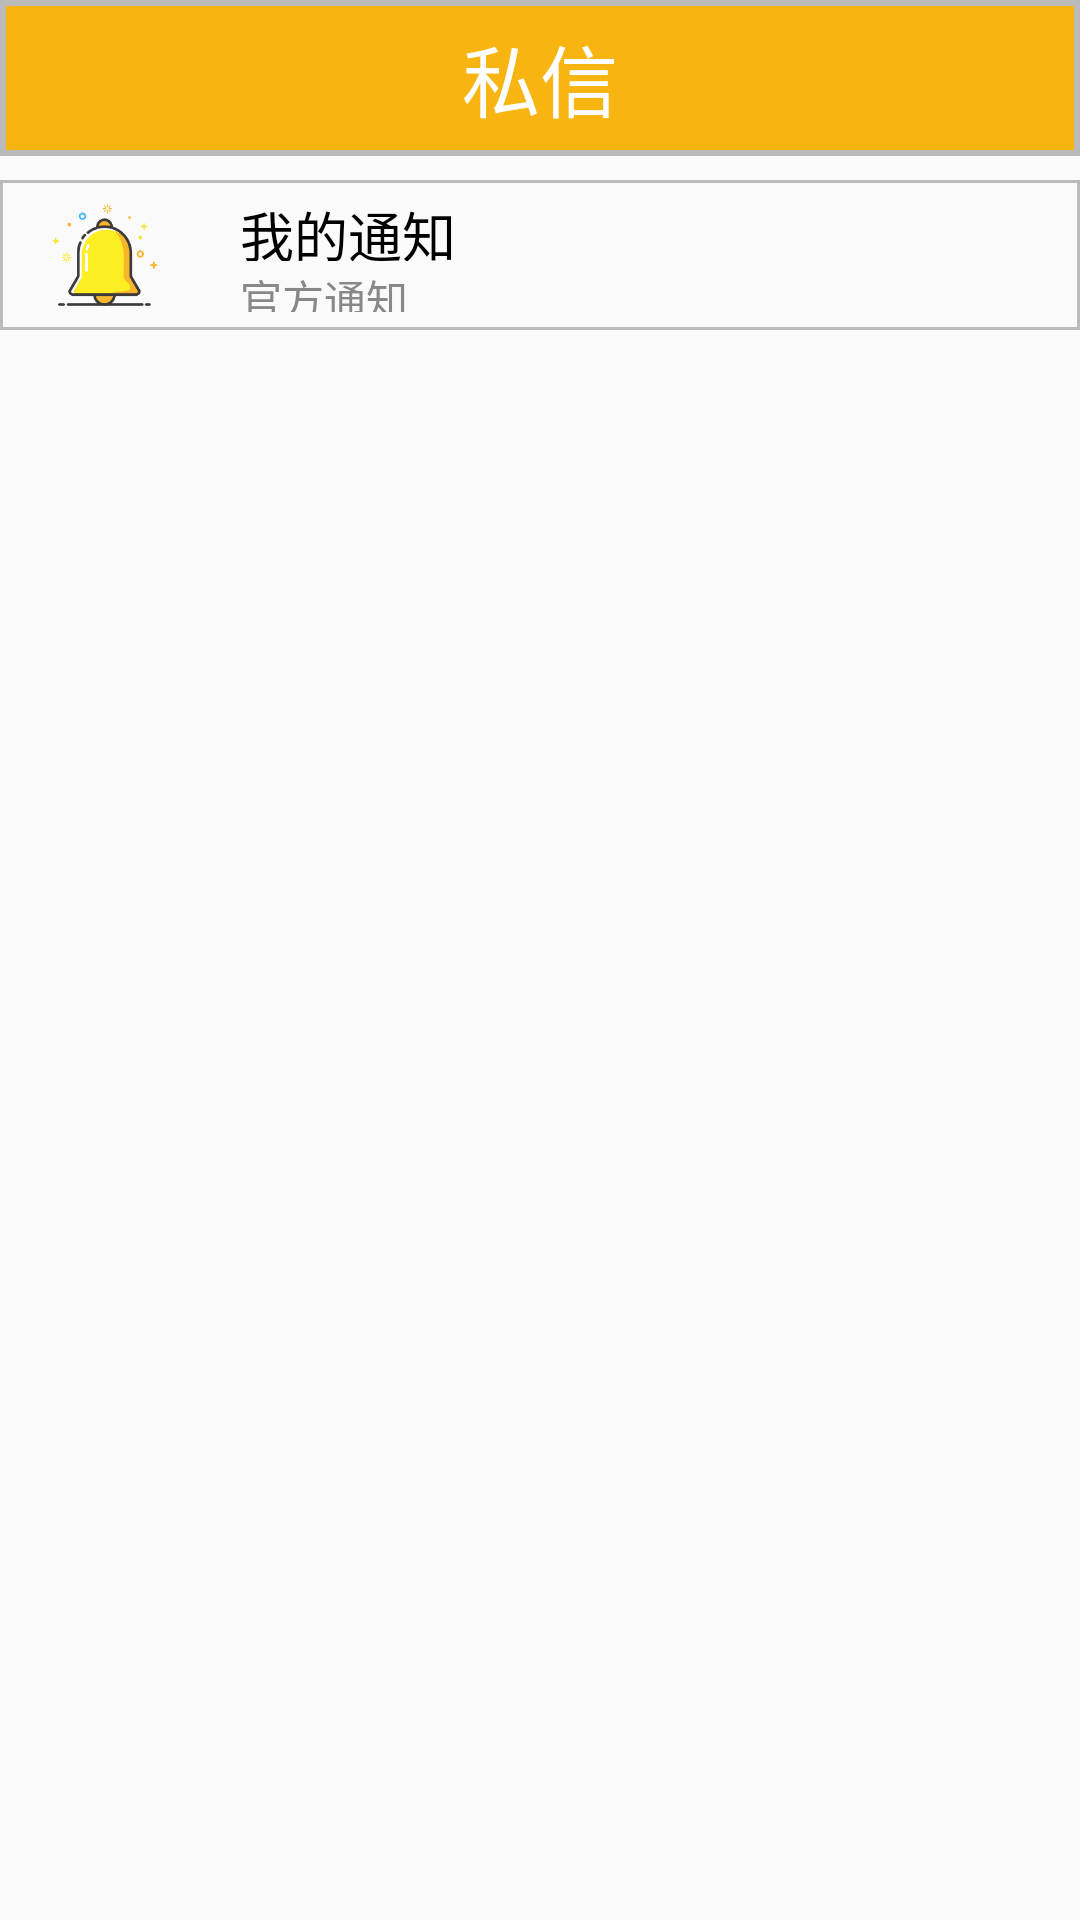

Icons on this 1080×1920 Android screen, each with its box as rect(x1, y1, x2, y2):
bigmessage: rect(52, 204, 158, 306)
